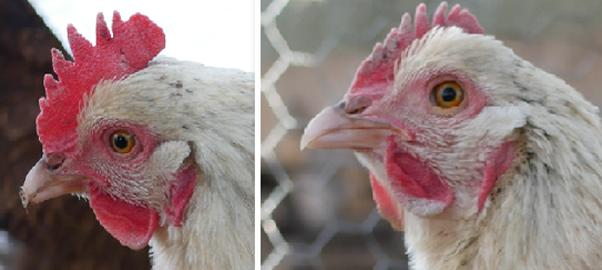AbNormal: (39, 8, 167, 156), (342, 1, 487, 114)
